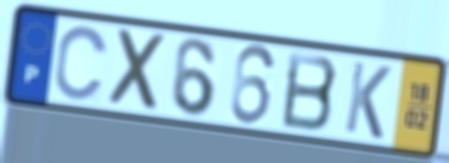6: (169, 36, 220, 121), (229, 42, 277, 128)
B: (279, 48, 341, 134)
C: (51, 23, 111, 103)
K: (341, 58, 394, 143)
X: (107, 25, 171, 115)
